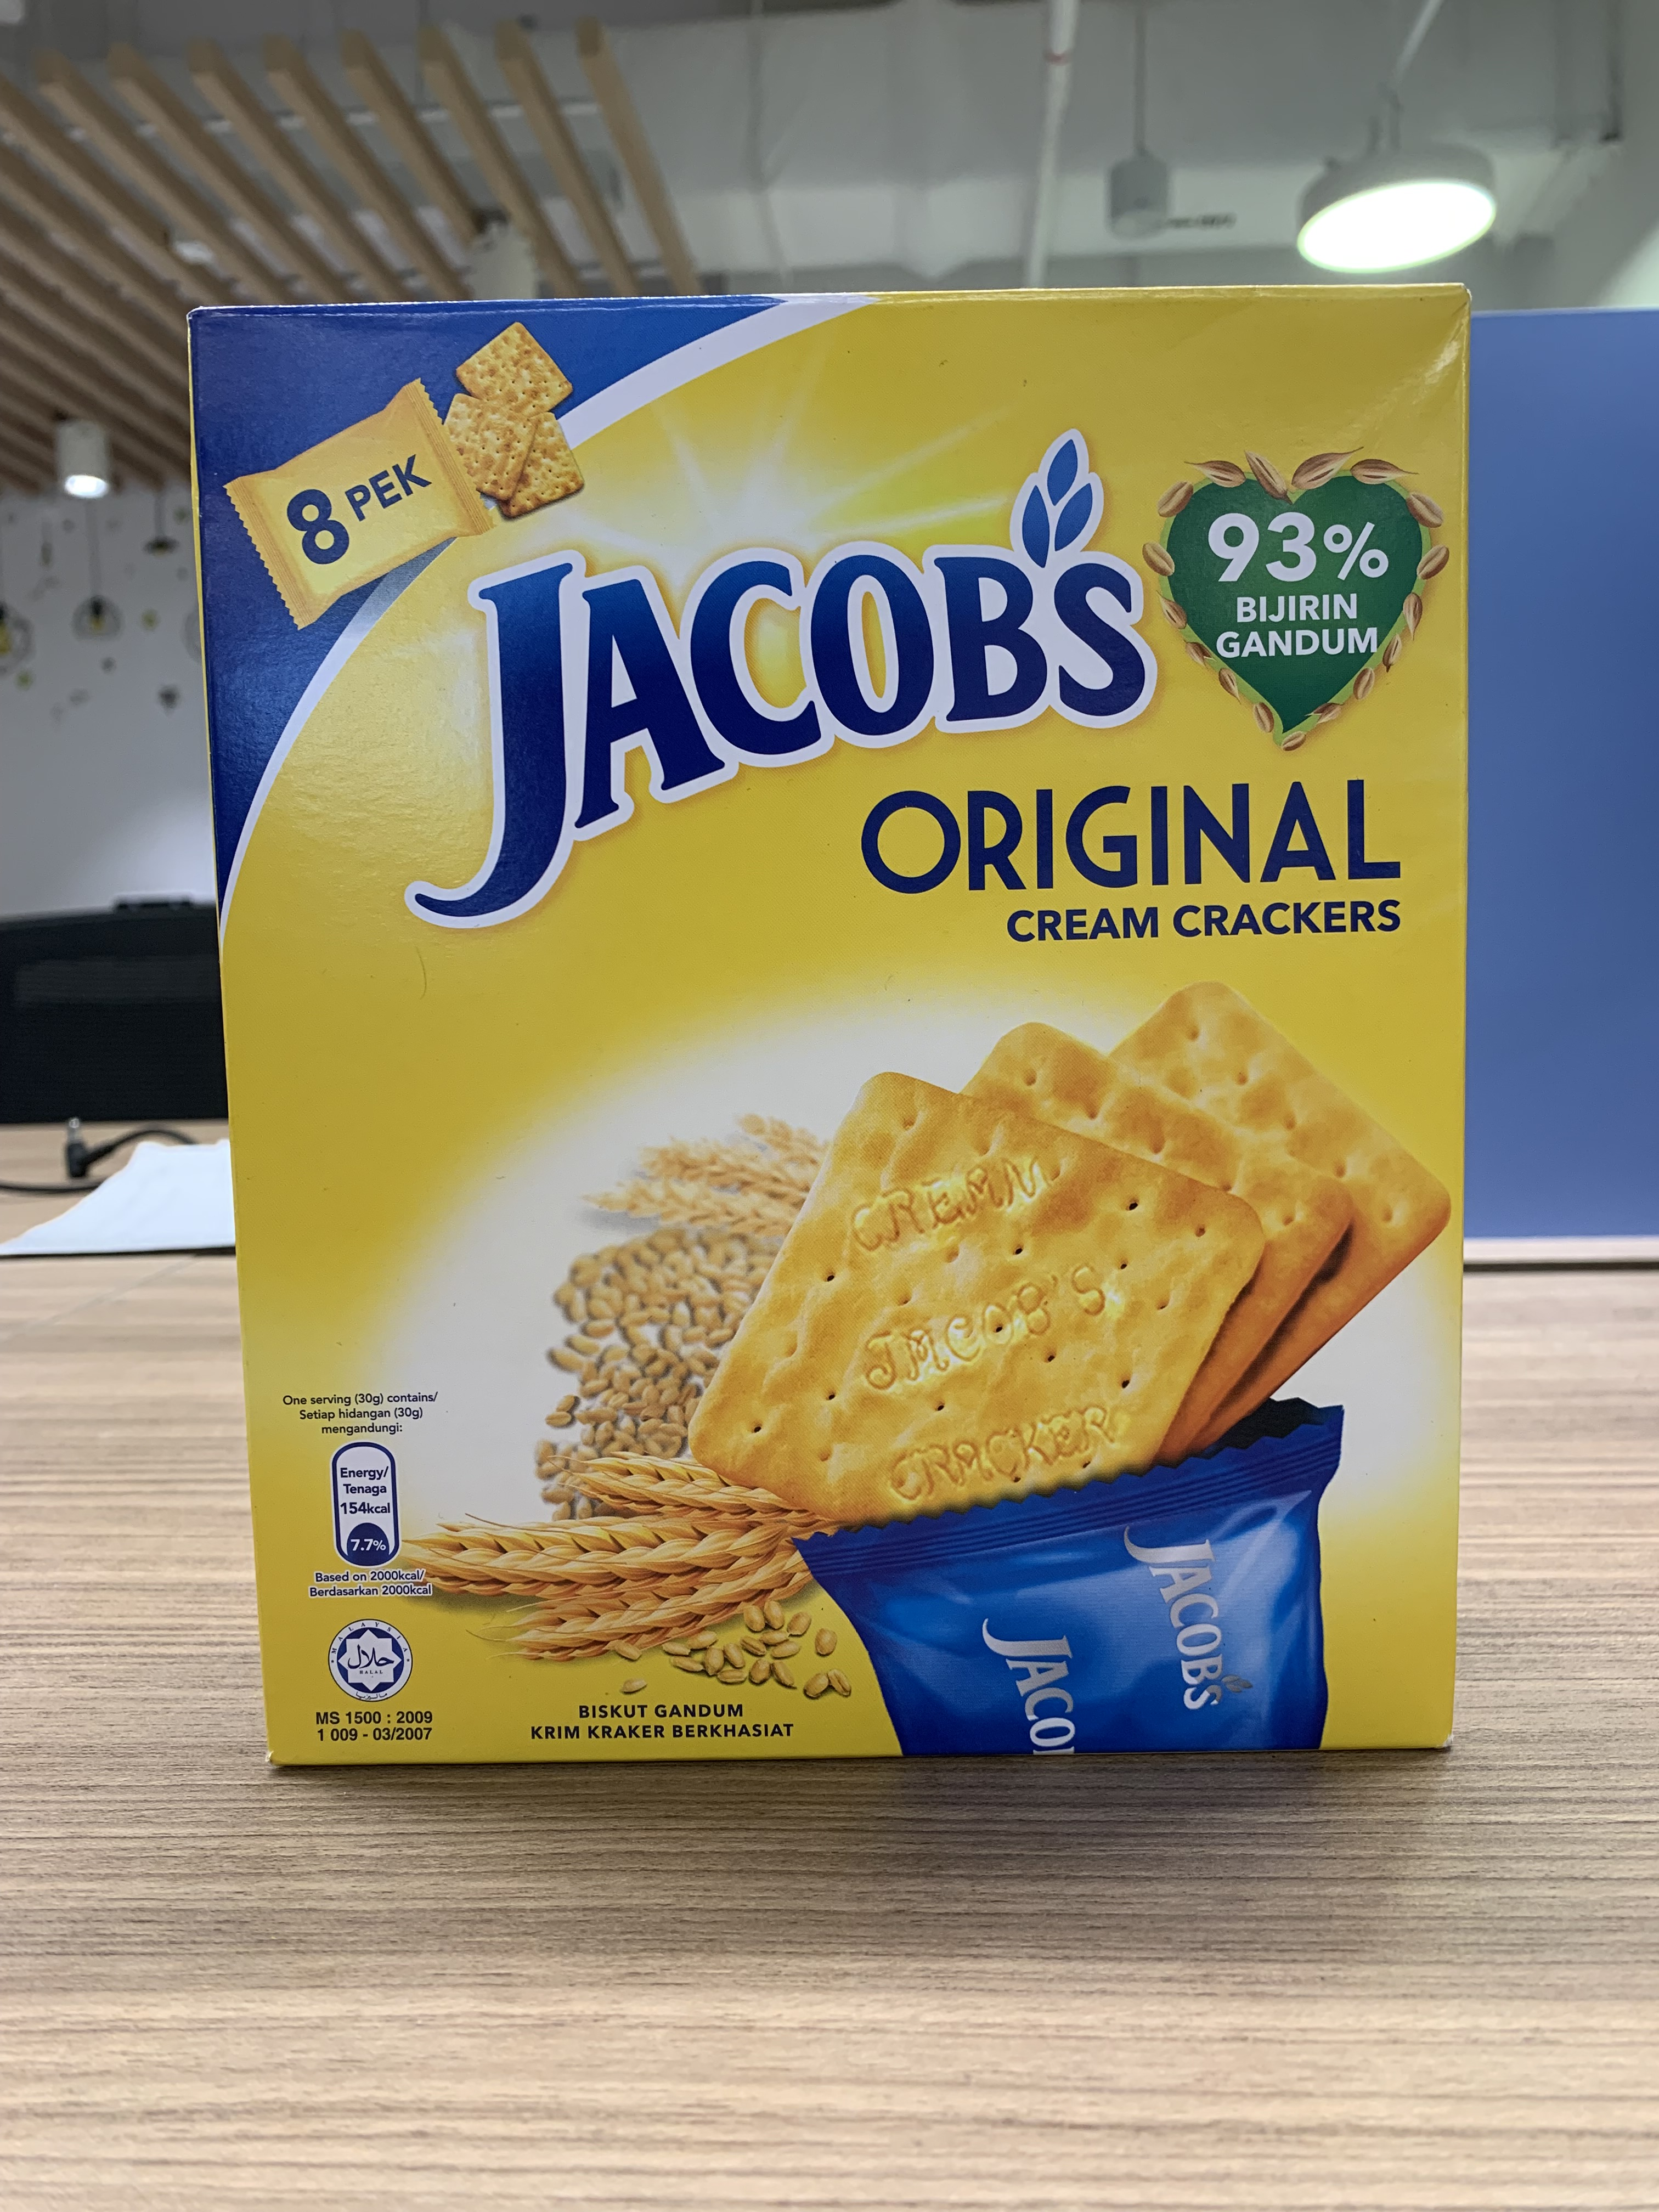crackers: (173, 291, 1478, 1768)
